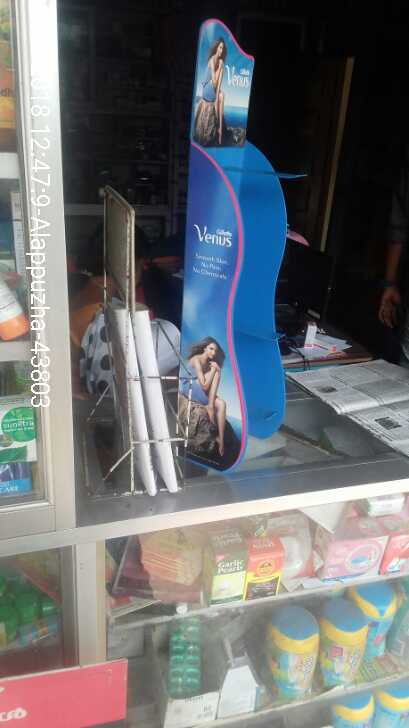reject: (117, 280, 232, 389)
